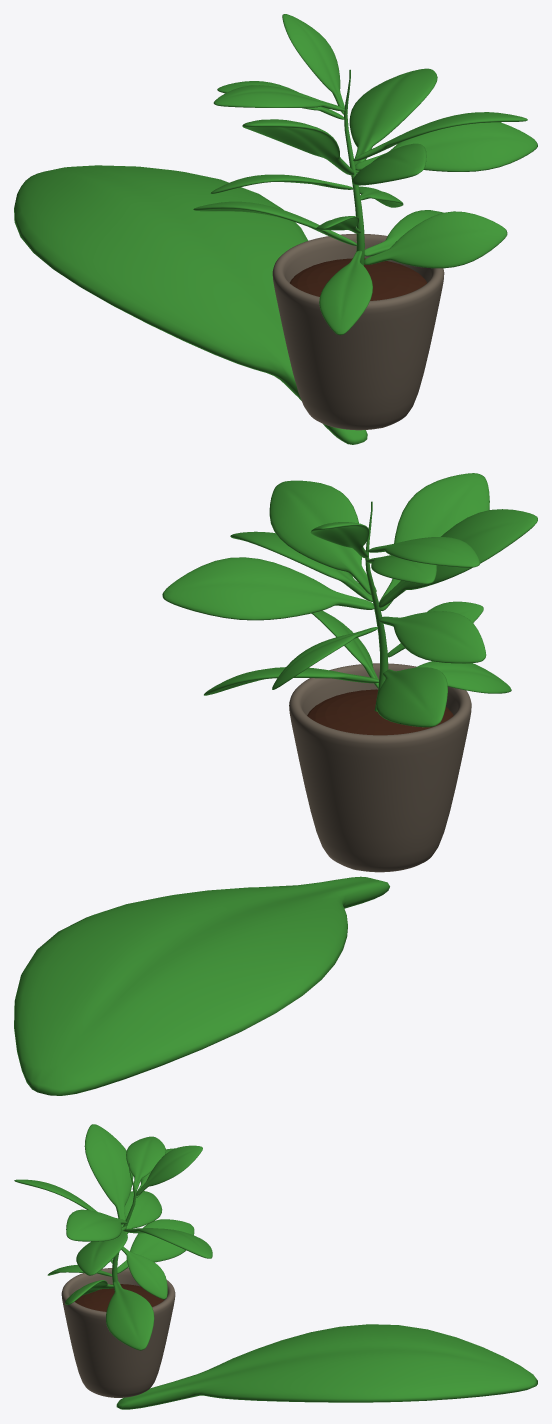
The model's file is kytka.fbx.
The picture shows the model from 3 angles, top to bottom: view 1: azimuth 30°, elevation 25°; view 2: azimuth 150°, elevation 25°; view 3: azimuth 270°, elevation 25°; orthographic projection. The views are drawn at different scales.
Visible parts, largest first — view 1: leaf, pot, stonek|leaf|Dupli|14, stonek|leaf|Dupli|5, stonek|leaf|Dupli|4, hlina, stonek|leaf|Dupli|13, stonek|leaf|Dupli|7, stonek|leaf|Dupli|2, stonek|leaf|Dupli|, stonek|leaf|Dupli|6, stonek|leaf|Dupli|3 (+7 smaller); view 2: leaf, pot, stonek|leaf|Dupli|4, stonek|leaf|Dupli|3, stonek|leaf|Dupli|6, stonek|leaf|Dupli|8, stonek|leaf|Dupli|11, stonek|leaf|Dupli|7, hlina, stonek|leaf|Dupli|, stonek|leaf|Dupli|5, stonek|leaf|Dupli|13 (+7 smaller); view 3: leaf, pot, stonek|leaf|Dupli|7, stonek|leaf|Dupli|12, stonek|leaf|Dupli|11, stonek|leaf|Dupli|3, stonek|leaf|Dupli|, stonek|leaf|Dupli|2, stonek|leaf|Dupli|5, stonek|leaf|Dupli|9, stonek|leaf|Dupli|4, stonek|leaf|Dupli|8 (+3 smaller).
Boxes of the visible parts, x1,y1,x2,y2 form: leaf: (14, 165, 367, 444); pot: (272, 233, 444, 430); stonek|leaf|Dupli|14: (364, 211, 507, 268); stonek|leaf|Dupli|5: (355, 122, 537, 171); stonek|leaf|Dupli|4: (349, 68, 437, 173); hlina: (290, 258, 426, 300); stonek|leaf|Dupli|13: (319, 250, 372, 335); stonek|leaf|Dupli|7: (242, 119, 354, 175); stonek|leaf|Dupli|2: (282, 14, 344, 114); stonek|leaf|Dupli|: (213, 85, 345, 111); stonek|leaf|Dupli|6: (352, 143, 426, 185); stonek|leaf|Dupli|3: (353, 112, 527, 161); leaf: (14, 876, 389, 1095); pot: (289, 663, 471, 872); stonek|leaf|Dupli|4: (162, 557, 374, 620); stonek|leaf|Dupli|3: (269, 480, 376, 594); stonek|leaf|Dupli|6: (379, 473, 489, 610); stonek|leaf|Dupli|8: (379, 611, 486, 663); stonek|leaf|Dupli|11: (376, 667, 447, 727); stonek|leaf|Dupli|7: (378, 509, 537, 607); hlina: (307, 689, 453, 735); stonek|leaf|Dupli|: (367, 537, 479, 567); stonek|leaf|Dupli|5: (230, 531, 372, 601); stonek|leaf|Dupli|13: (416, 661, 511, 693); leaf: (116, 1324, 537, 1409); pot: (61, 1268, 175, 1397); stonek|leaf|Dupli|7: (84, 1124, 133, 1226); stonek|leaf|Dupli|12: (106, 1280, 154, 1350); stonek|leaf|Dupli|11: (117, 1219, 194, 1273); stonek|leaf|Dupli|3: (66, 1209, 126, 1241); stonek|leaf|Dupli|: (126, 1136, 165, 1190); stonek|leaf|Dupli|2: (136, 1145, 202, 1195); stonek|leaf|Dupli|5: (76, 1226, 127, 1275); stonek|leaf|Dupli|9: (121, 1246, 167, 1299); stonek|leaf|Dupli|4: (124, 1228, 212, 1258); stonek|leaf|Dupli|8: (124, 1191, 162, 1234).
Bounding box in the file's own units: 125 × 161 × 297.
